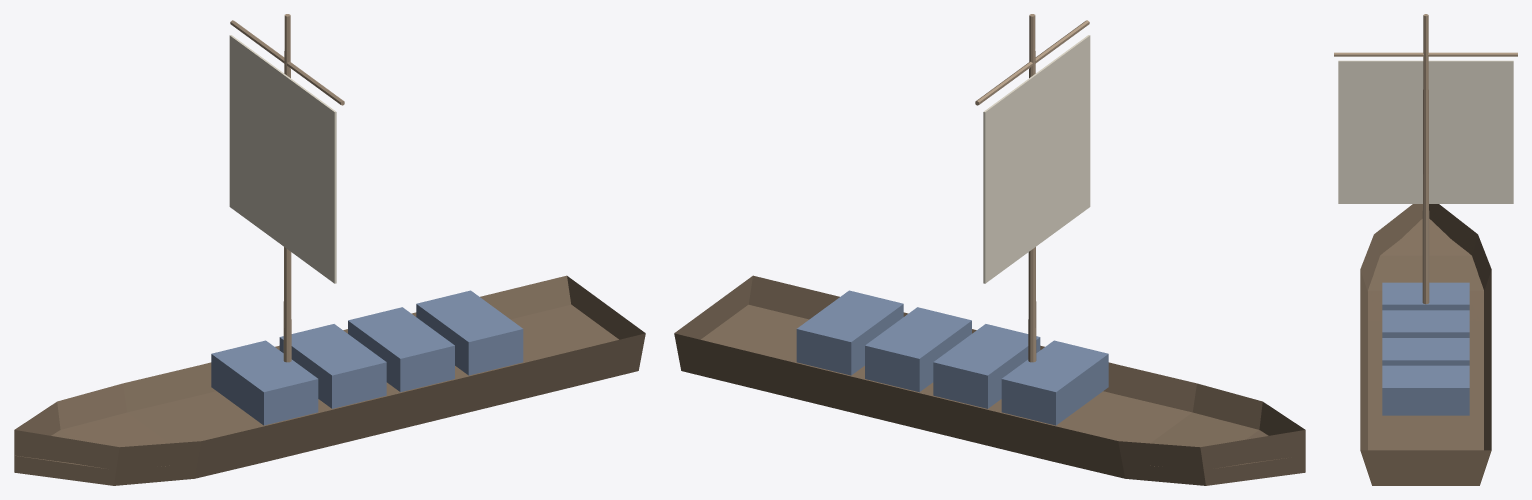
Rendered from navicello.glb.
3 renders of one model, left to right at view 1: azimuth 30°, elevation 25°; view 2: azimuth 150°, elevation 25°; view 3: azimuth 270°, elevation 25°, orthographic. The views are drawn at different scales.
Parts seen in each view (by area): view 1: navicello, navicello_cargo, navicello_sail, navicello_rig; view 2: navicello, navicello_cargo, navicello_sail, navicello_rig; view 3: navicello_sail, navicello, navicello_cargo, navicello_rig.
Part boxes in pixels (bbox=[...]): navicello: bbox=[14, 275, 645, 485]; navicello_cargo: bbox=[211, 290, 523, 425]; navicello_sail: bbox=[229, 35, 336, 283]; navicello_rig: bbox=[230, 14, 344, 362]; navicello: bbox=[674, 275, 1305, 485]; navicello_cargo: bbox=[796, 290, 1108, 425]; navicello_sail: bbox=[983, 35, 1090, 283]; navicello_rig: bbox=[975, 14, 1089, 362]; navicello_sail: bbox=[1338, 60, 1513, 203]; navicello: bbox=[1360, 204, 1491, 485]; navicello_cargo: bbox=[1382, 282, 1469, 415]; navicello_rig: bbox=[1334, 14, 1517, 304].
Bounding box in the file's own units: 13 × 8.6 × 4.2.
